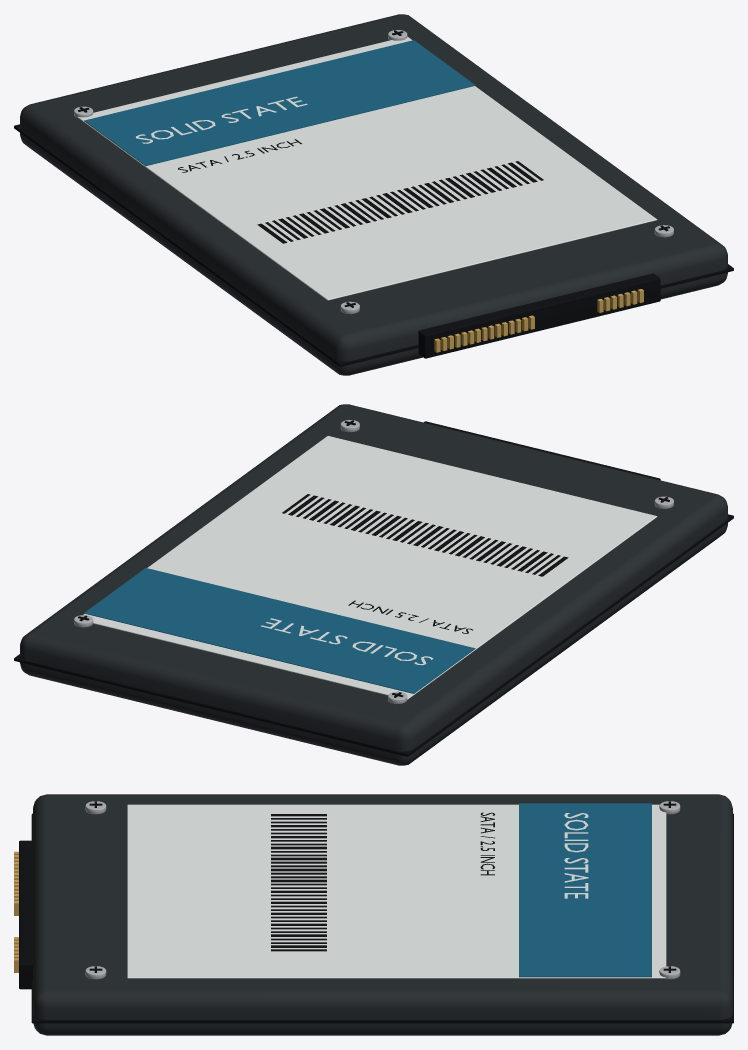
File: sata-ssd.5739f15f3af6.glb
The picture shows the model from 3 angles, top to bottom: view 1: azimuth 30°, elevation 25°; view 2: azimuth 150°, elevation 25°; view 3: azimuth 270°, elevation 25°; orthographic projection. The views are drawn at different scales.
Visible parts, largest first — view 1: SATA-SSD / Printed warm white, SSD enclosure, Blue label stripe, SATA-SSD / Dark cavity interior, SATA-SSD / Gold plated connector contacts, SATA-SSD / Nickel plated fasteners; view 2: SSD enclosure, SATA-SSD / Printed warm white, Blue label stripe, SATA-SSD / Dark cavity interior, SATA-SSD / Nickel plated fasteners; view 3: SSD enclosure, SATA-SSD / Printed warm white, Blue label stripe, SATA-SSD / Dark cavity interior, SATA-SSD / Nickel plated fasteners, SATA-SSD / Gold plated connector contacts.
Part boxes in pixels (x1=…): SATA-SSD / Printed warm white: x1=77, y1=36, x2=657, y2=300; SSD enclosure: x1=20, y1=14, x2=727, y2=375; Blue label stripe: x1=84, y1=40, x2=475, y2=165; SATA-SSD / Dark cavity interior: x1=14, y1=30, x2=733, y2=366; SATA-SSD / Gold plated connector contacts: x1=434, y1=289, x2=643, y2=352; SATA-SSD / Nickel plated fasteners: x1=74, y1=30, x2=673, y2=314; SSD enclosure: x1=20, y1=404, x2=727, y2=765; SATA-SSD / Printed warm white: x1=83, y1=436, x2=657, y2=699; Blue label stripe: x1=84, y1=568, x2=475, y2=693; SATA-SSD / Dark cavity interior: x1=14, y1=420, x2=733, y2=756; SATA-SSD / Nickel plated fasteners: x1=74, y1=420, x2=673, y2=704; SSD enclosure: x1=33, y1=794, x2=732, y2=1035; SATA-SSD / Printed warm white: x1=127, y1=804, x2=666, y2=978; Blue label stripe: x1=519, y1=803, x2=651, y2=977; SATA-SSD / Dark cavity interior: x1=19, y1=801, x2=733, y2=1023; SATA-SSD / Nickel plated fasteners: x1=85, y1=801, x2=680, y2=979; SATA-SSD / Gold plated connector contacts: x1=14, y1=851, x2=18, y2=972.
Bounding box in the file's own units: 0.0701 × 0.008 × 0.1031.
